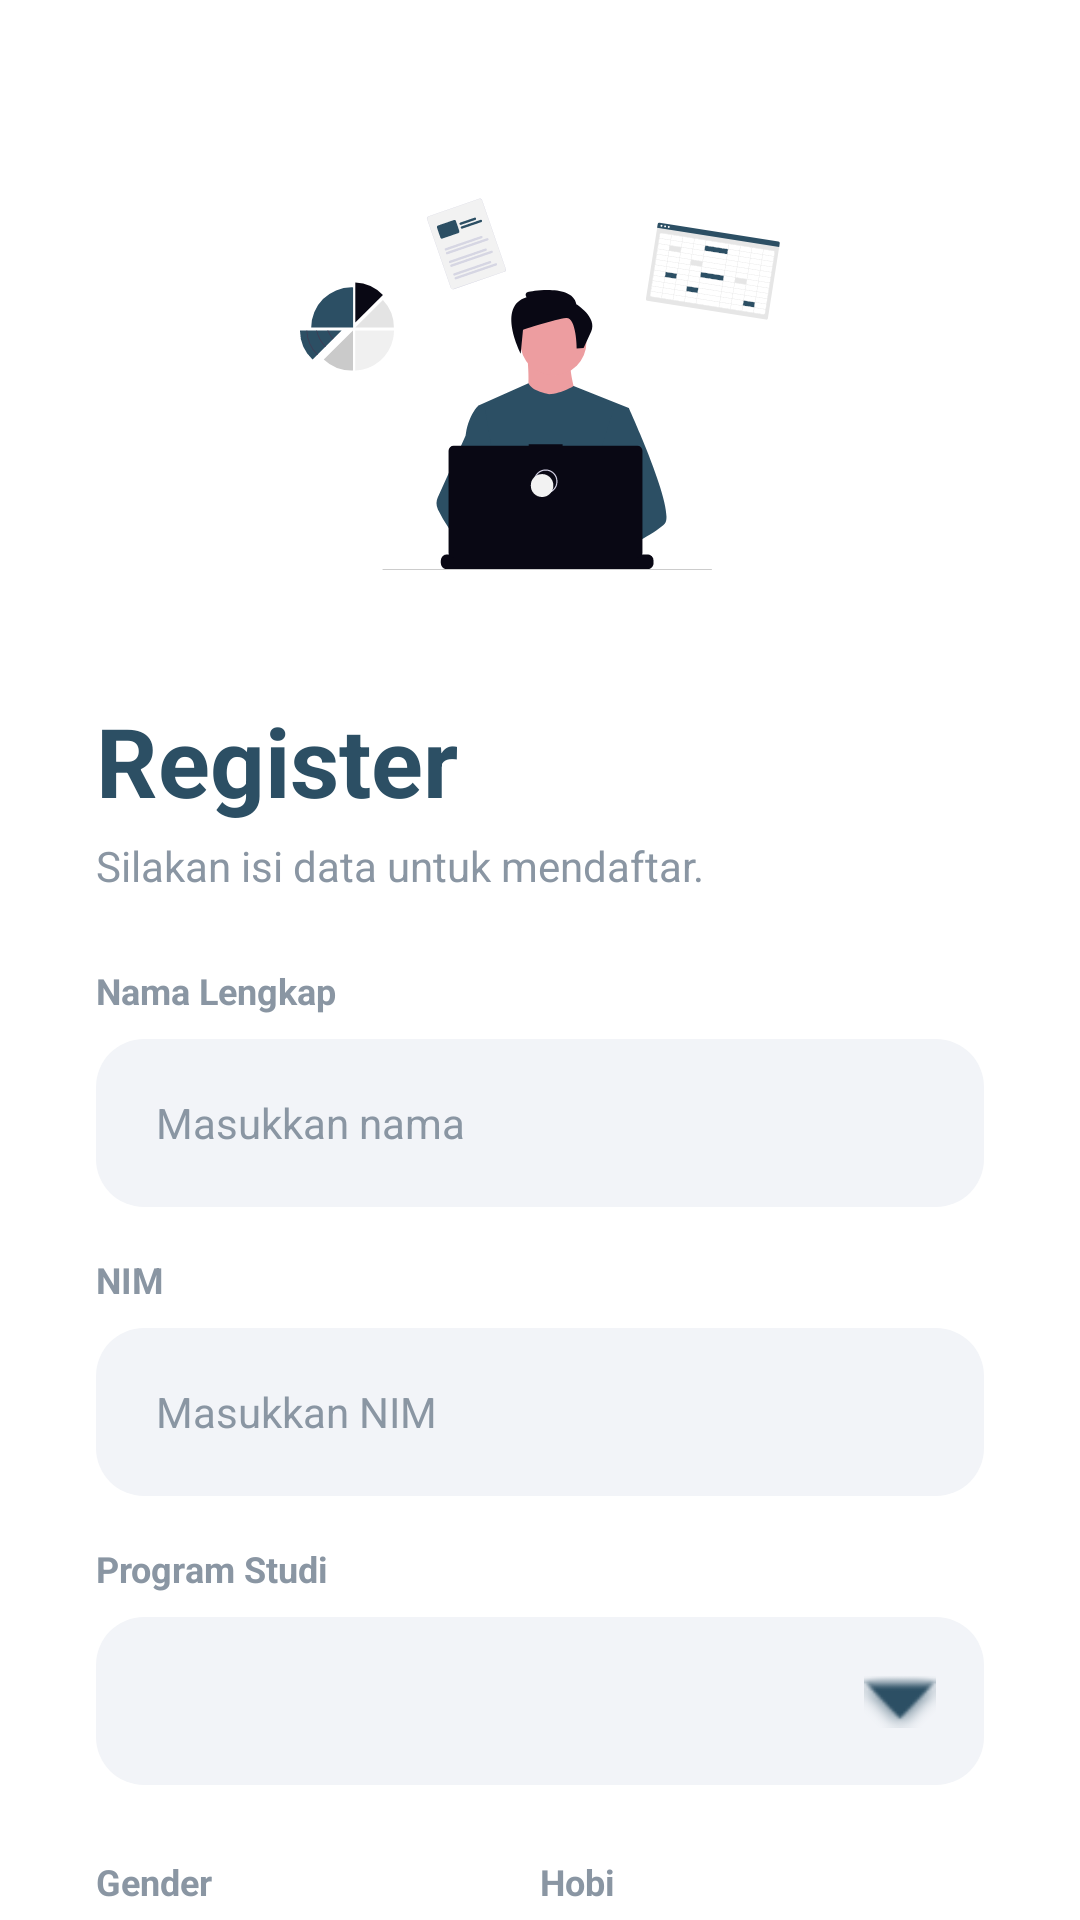

Screen size 1080w x 1920h. Icon name, then its box in pixels as bbox=(x1, y1, x2, y2):
arrow down float: bbox=(864, 1678, 936, 1725)
